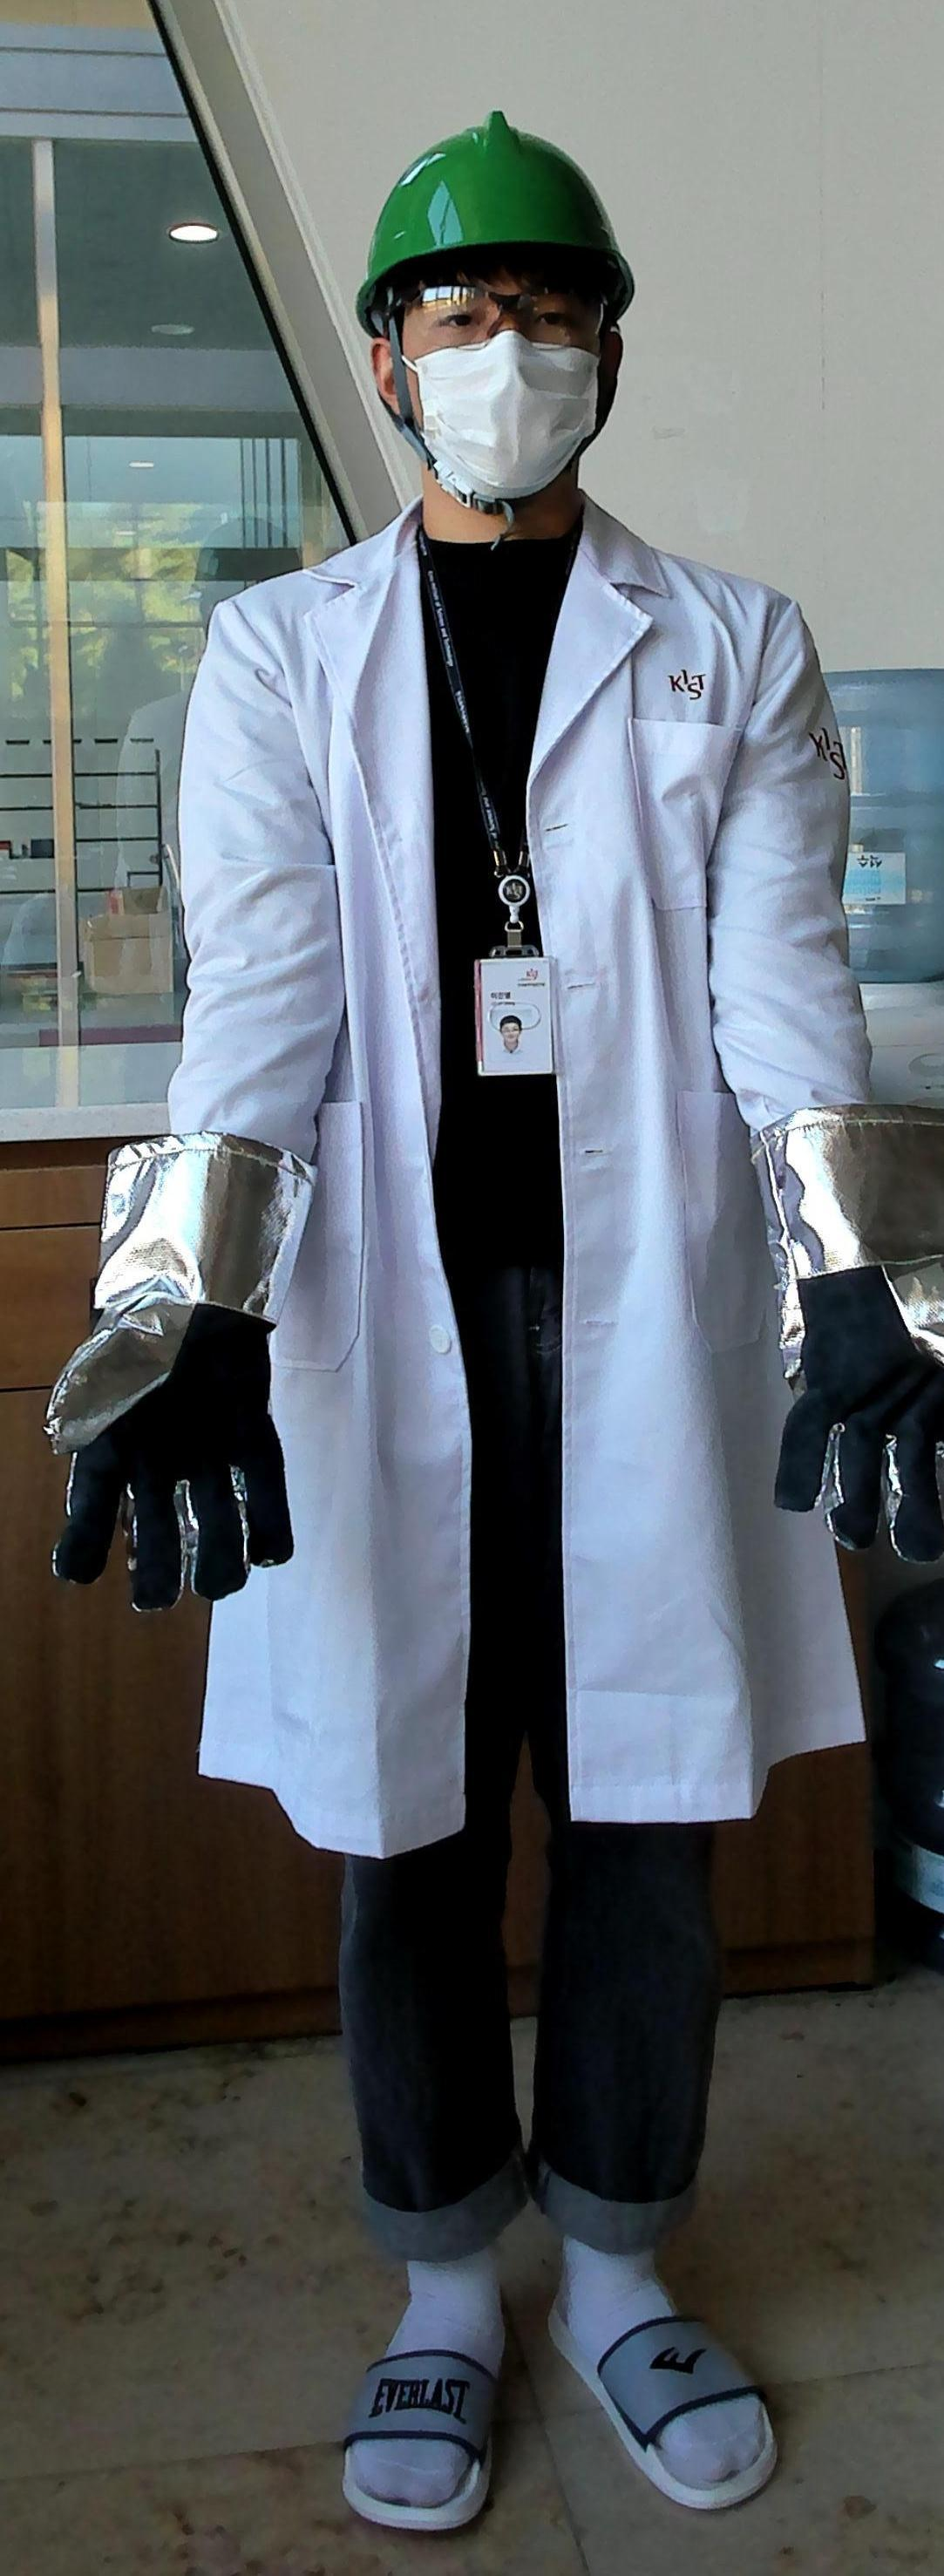lab_coat: (276, 554, 780, 1807)
